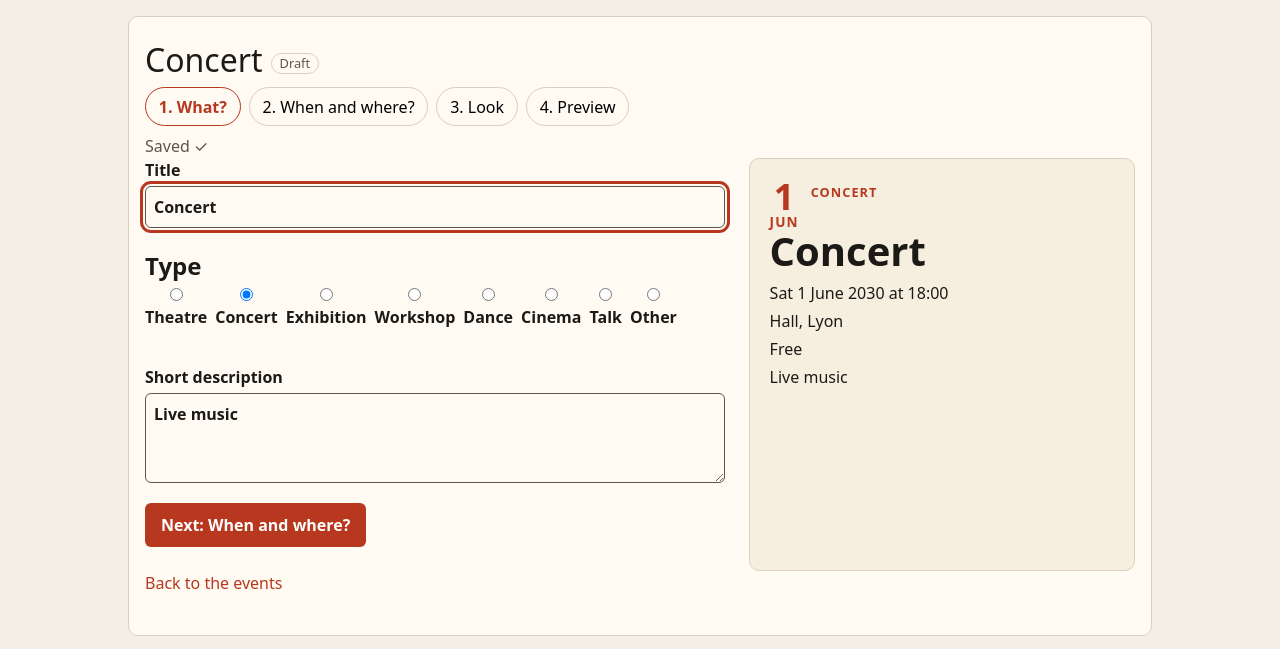
it: conflicts and session (UC17, UC15 *b) › CC4: yours/theirs per field; the choice is resent with the current version; a second conflict keeps only the remaining field
The width and height of the screenshot is (1280, 649).
Expected: the navigation bar named "Steps" is shown, [145,87,629,126]
Replace the text in the field labelled "Title" with "Mine". click: [435, 207]
box: [145,186,725,228]
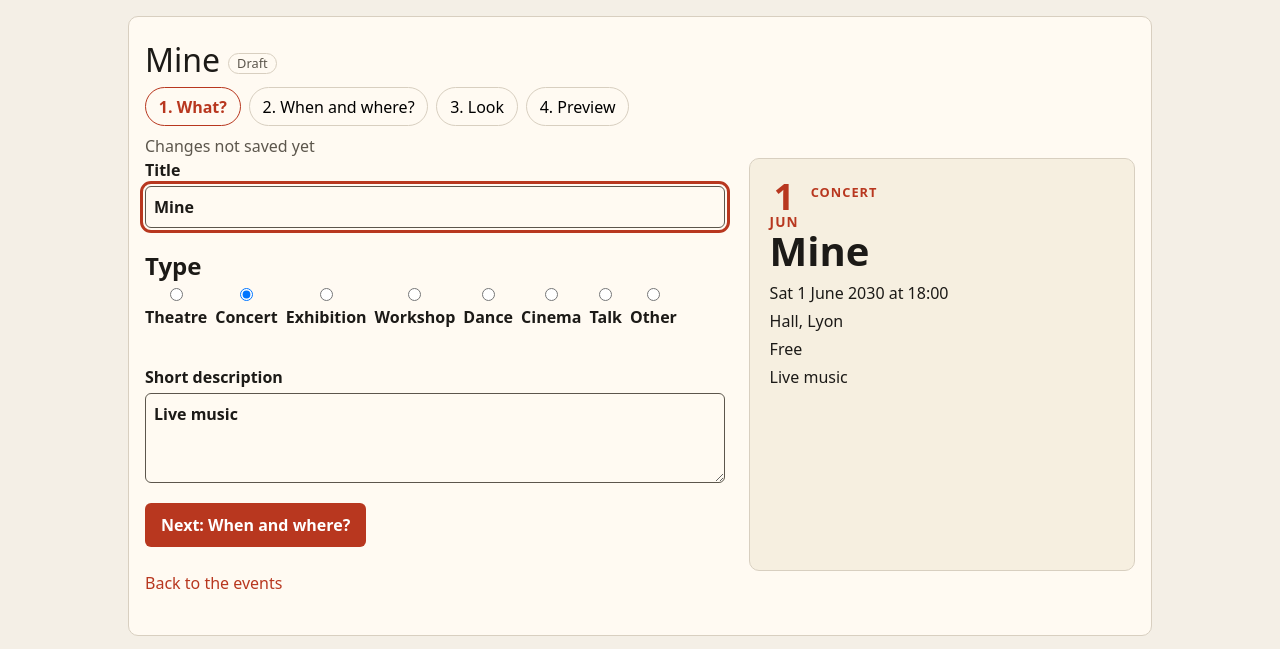
Leave the field labelled "Title", box [145,186,725,228]
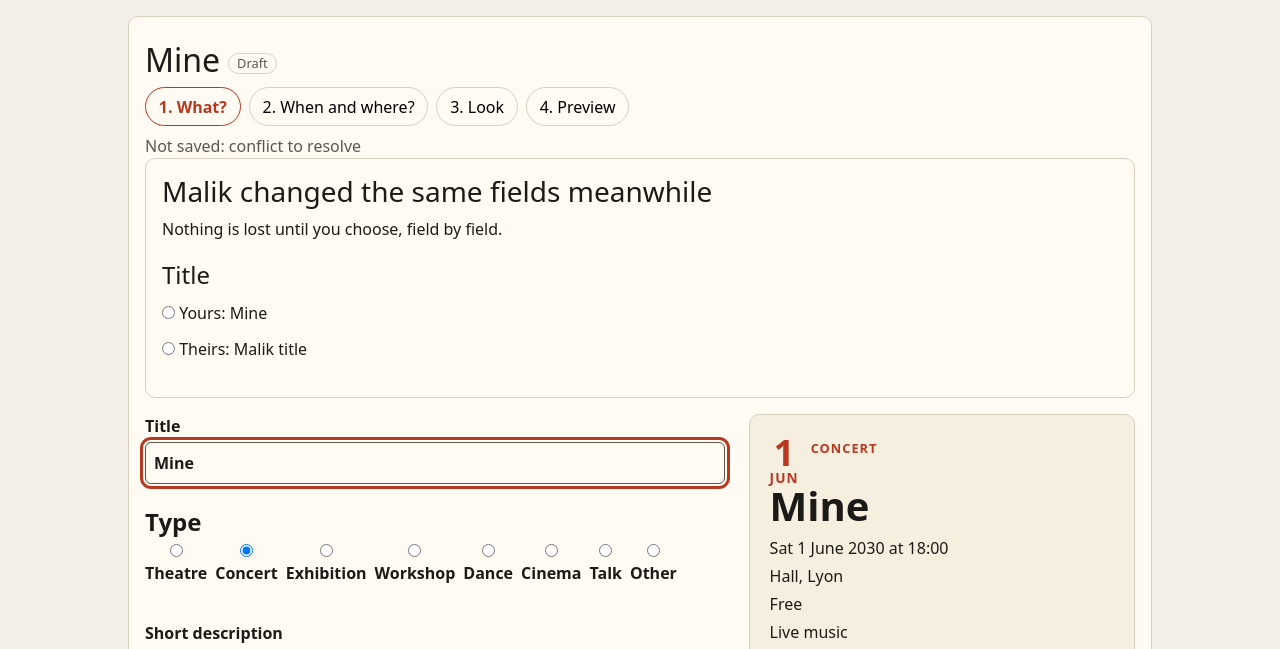
Now the heading "Malik changed the same fields meanwhile" is shown, box [162,172,712,210]
Click the radio button labelled "Yours: Mine". click: [168, 312]
box: [162,306,175,319]
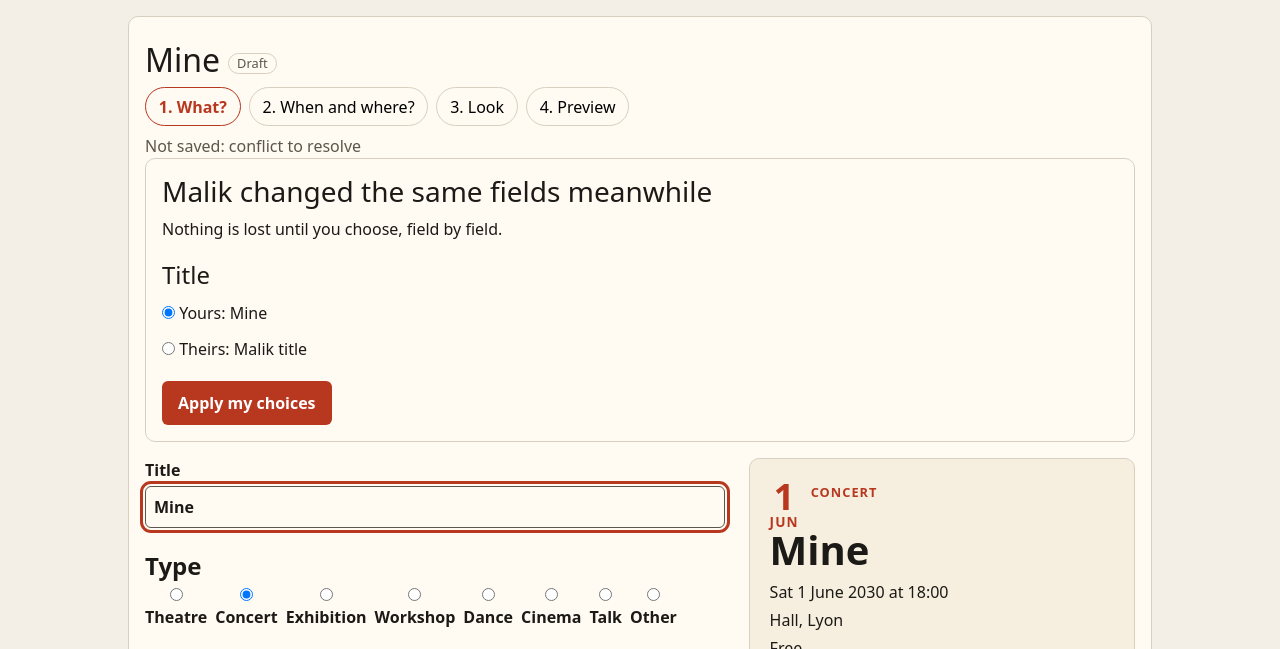
Click the button "Apply my choices". click: [247, 403]
box: [162,381,332,425]
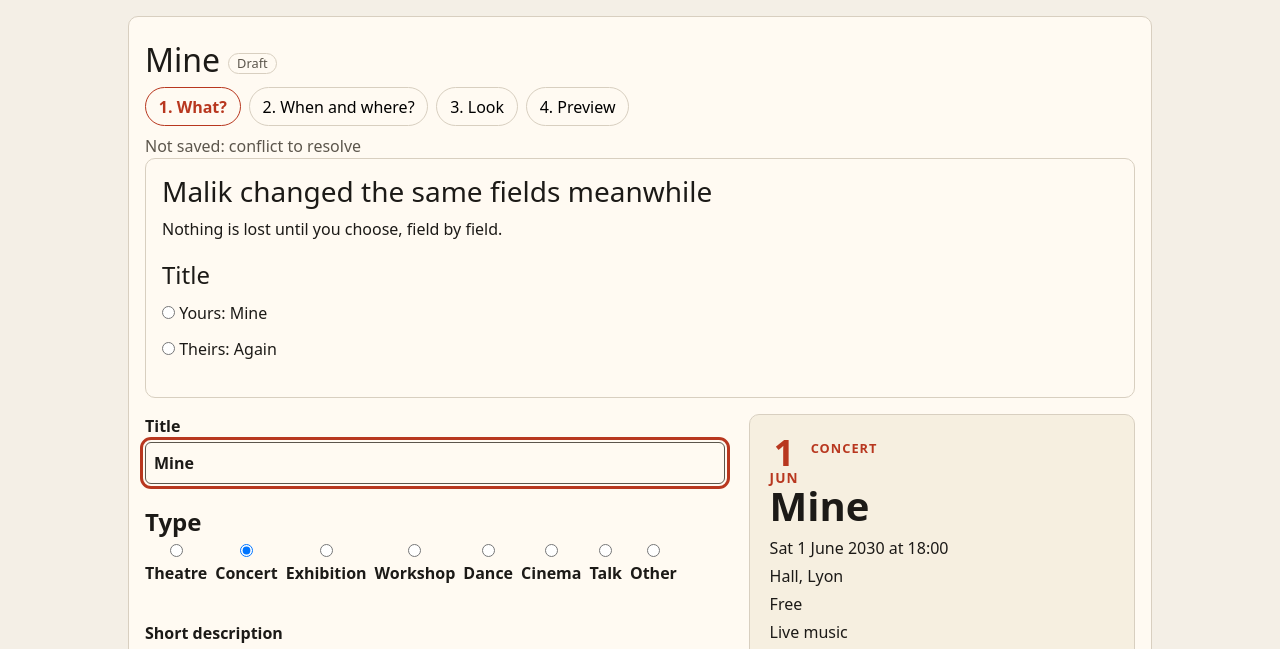
Now the radio button labelled "Theirs: Again" is shown, box [162,342,175,355]
Click the radio button labelled "Yours: Mine". click: [168, 312]
box: [162,306,175,319]
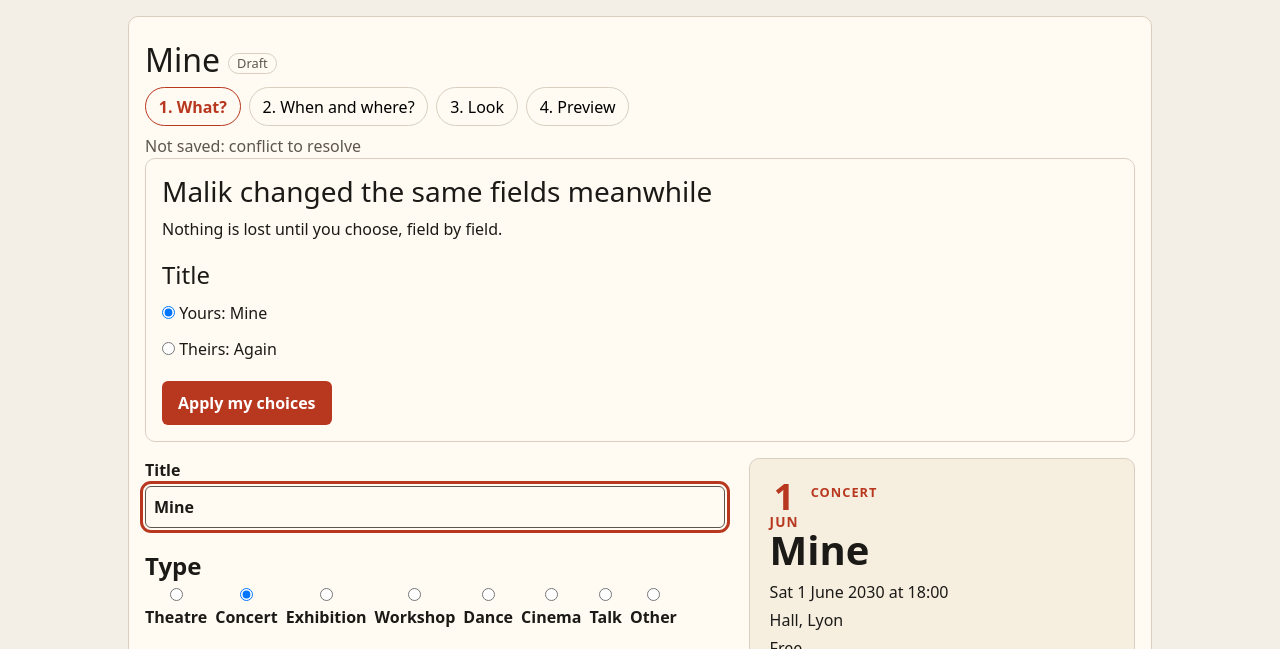
Click the button "Apply my choices". click: [247, 403]
box: [162,381,332,425]
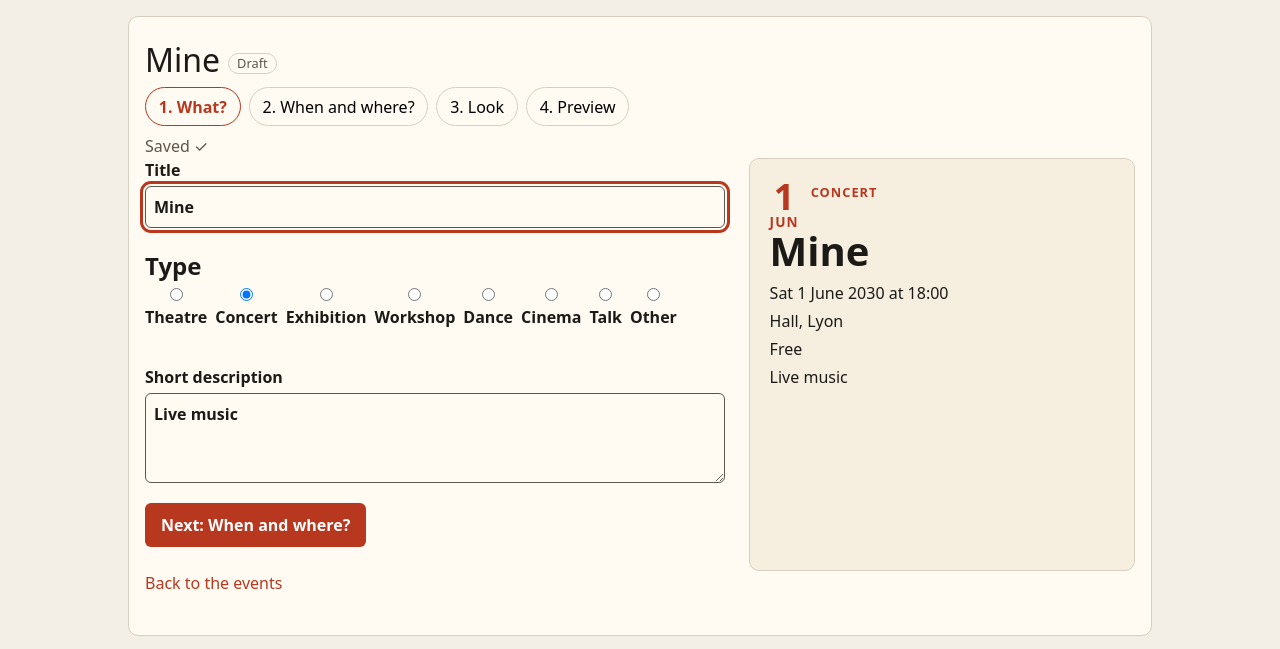
Now the text "Saved ✓" is shown, box [145,135,208,157]
